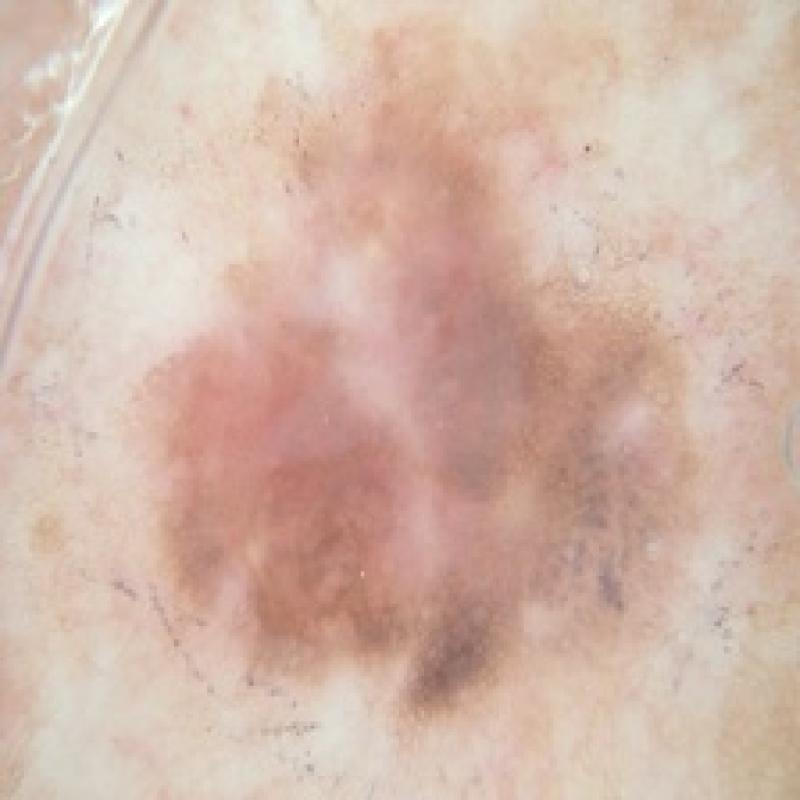malignant: (93, 99, 704, 728)
